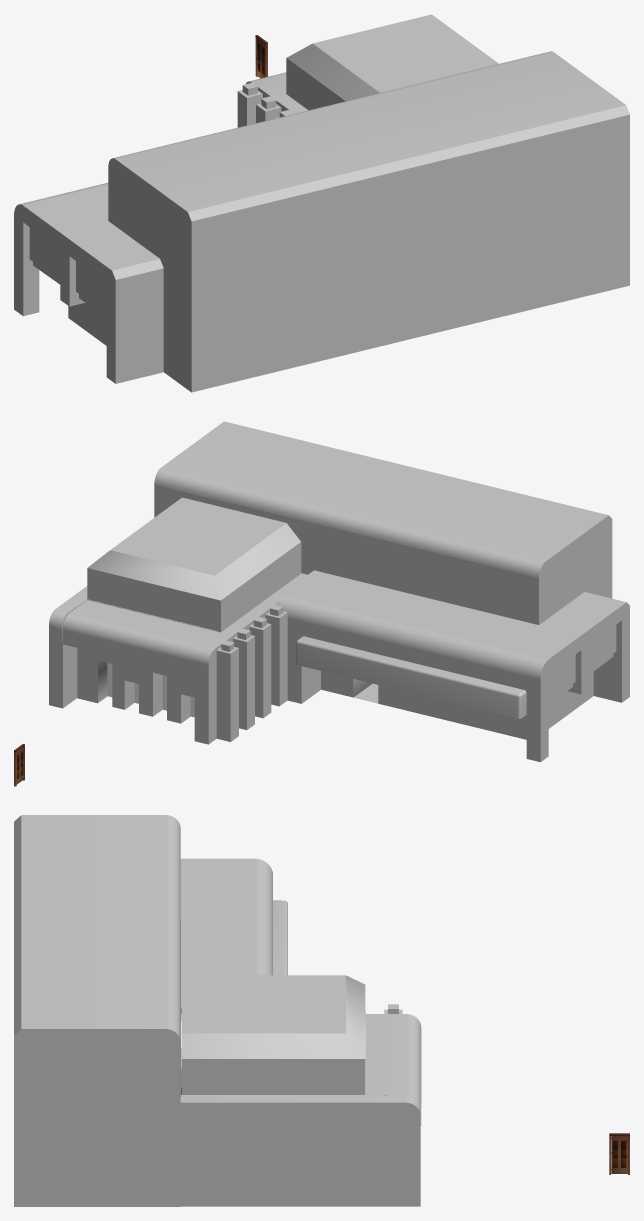
File: FachadaConsultorio.obj
3 views of the same model, one above another, from view 1: azimuth 30°, elevation 25°; view 2: azimuth 150°, elevation 25°; view 3: azimuth 270°, elevation 25° (orthographic). The views are drawn at different scales.
Visible parts, largest first — view 1: hospital.3.0_Cuerpo_03, hospital.3.0_Cuerpo_03.006; view 2: hospital.3.0_Cuerpo_03, hospital.3.0_Cuerpo_03.006, hospital.3.0_Cuerpo_03.002, hospital.3.0_Cuerpo_03.004, hospital.3.0_Cuerpo_03.001, Cubo.002_Cubo.001; view 3: hospital.3.0_Cuerpo_03, hospital.3.0_Cuerpo_03.001, hospital.3.0_Cuerpo_03.006, Cube.001_Cube.005.
Part boxes in pixels (x1,y1,x2,y2): hospital.3.0_Cuerpo_03: (14,51,629,392); hospital.3.0_Cuerpo_03.006: (286,14,498,110); hospital.3.0_Cuerpo_03: (63,421,629,762); hospital.3.0_Cuerpo_03.006: (87,497,301,632); hospital.3.0_Cuerpo_03.002: (77,648,194,723); hospital.3.0_Cuerpo_03.004: (321,671,526,739); hospital.3.0_Cuerpo_03.001: (49,586,87,708); Cubo.002_Cubo.001: (87,599,218,717); hospital.3.0_Cuerpo_03: (14,815,421,1206); hospital.3.0_Cuerpo_03.001: (180,1095,420,1206); hospital.3.0_Cuerpo_03.006: (182,975,365,1094); Cube.001_Cube.005: (609,1133,629,1174).
Bounding box in the file's own units: 100 × 34.97 × 110.
